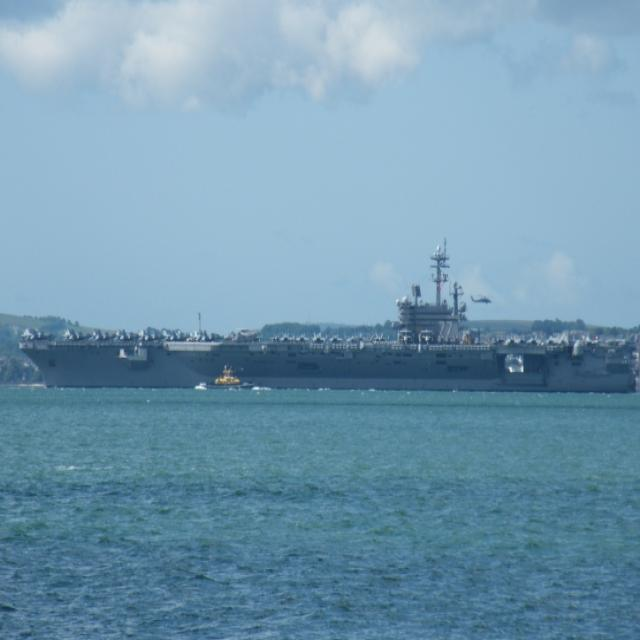Portanaves: (15, 230, 640, 397)
